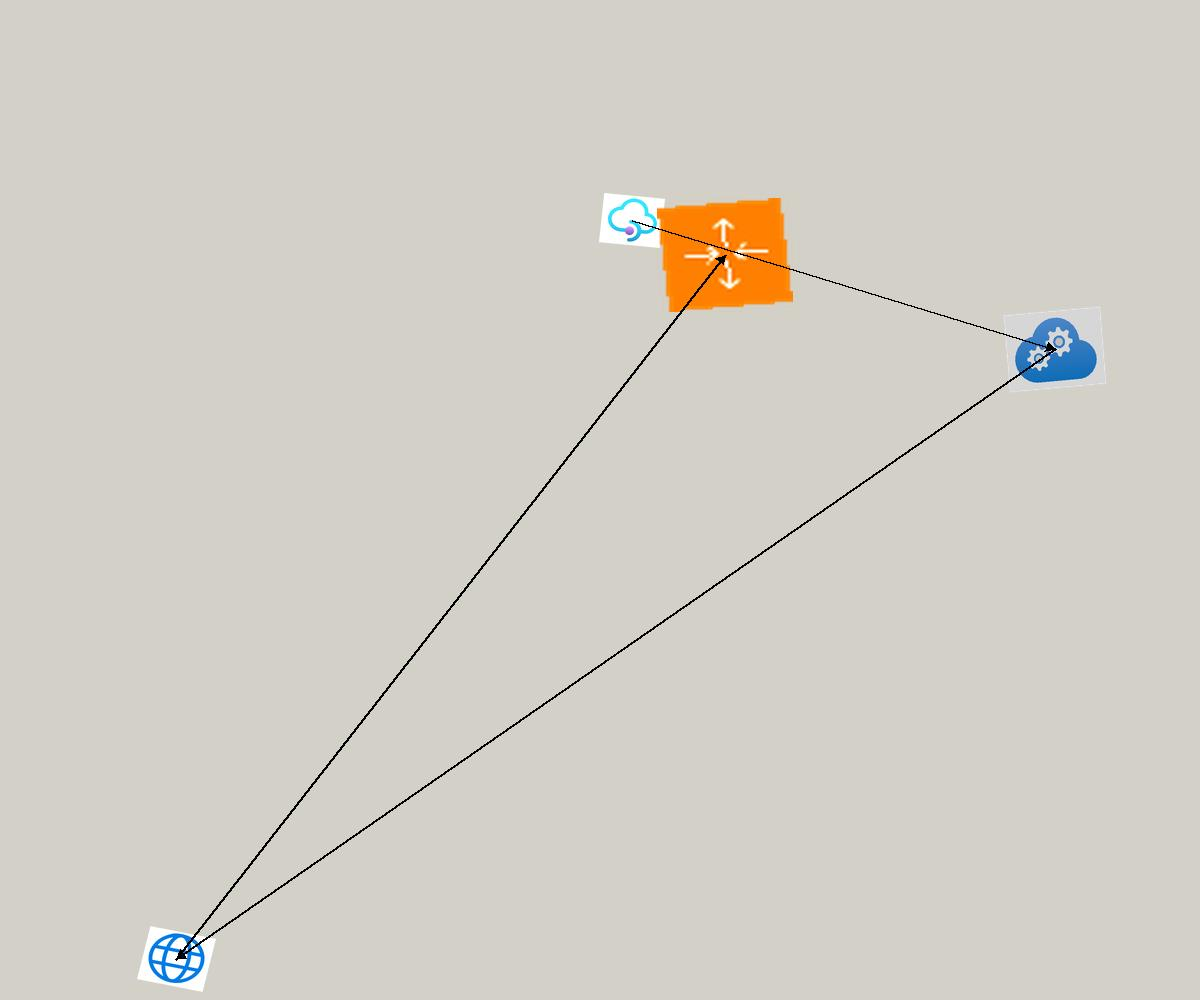AWS-Scaling-group: (657, 198, 793, 312)
Azure_api_gateway: (599, 193, 665, 248)
Azure_cloud_services: (1003, 306, 1107, 393)
Azure_http: (137, 926, 216, 992)
